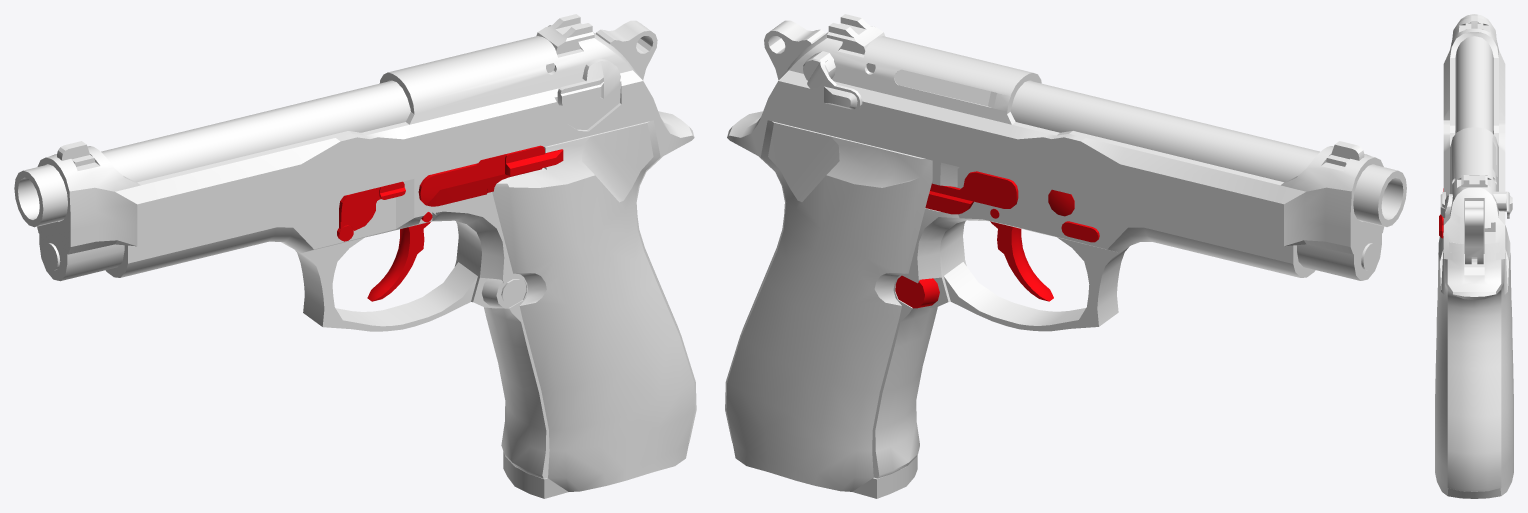
The picture shows the model from 3 angles, left to right: view 1: azimuth 30°, elevation 25°; view 2: azimuth 150°, elevation 25°; view 3: azimuth 270°, elevation 25°; orthographic projection. The views are drawn at different scales.
Parts seen in each view (by area): view 1: Cylinder.high.002, Cylinder.B.high.003, Cylinder.high.001, Cylinder.B.high.001, Cylinder.B.high.002, Mag.high.003; view 2: Cylinder.B.high.003, Cylinder.high.002, Cylinder.high.001, Cylinder.B.high.001, Cylinder.B.high.002, Mag.high.003; view 3: Cylinder.high.001, Cylinder.high.002, Cylinder.B.high.003, Cylinder.B.high.001, Cylinder.B.high.002.
Part boxes in pixels (x1=…): Cylinder.high.002: x1=37, y1=32, x2=660, y2=281; Cylinder.B.high.003: x1=492, y1=120, x2=694, y2=491; Cylinder.high.001: x1=105, y1=20, x2=696, y2=478; Cylinder.B.high.001: x1=14, y1=80, x2=410, y2=270; Cylinder.B.high.002: x1=57, y1=14, x2=633, y2=166; Mag.high.003: x1=503, y1=451, x2=568, y2=498; Cylinder.B.high.003: x1=726, y1=120, x2=932, y2=491; Cylinder.high.002: x1=760, y1=32, x2=1383, y2=280; Cylinder.high.001: x1=725, y1=20, x2=1315, y2=478; Cylinder.B.high.001: x1=1010, y1=80, x2=1406, y2=270; Cylinder.B.high.002: x1=803, y1=14, x2=1364, y2=166; Mag.high.003: x1=852, y1=455, x2=917, y2=498; Cylinder.high.001: x1=1439, y1=188, x2=1501, y2=491; Cylinder.high.002: x1=1443, y1=18, x2=1505, y2=259; Cylinder.B.high.003: x1=1435, y1=225, x2=1513, y2=498; Cylinder.B.high.001: x1=1455, y1=14, x2=1493, y2=133; Cylinder.B.high.002: x1=1440, y1=14, x2=1512, y2=243.
Bounding box in the file's own units: 229 × 150 × 36.36.
